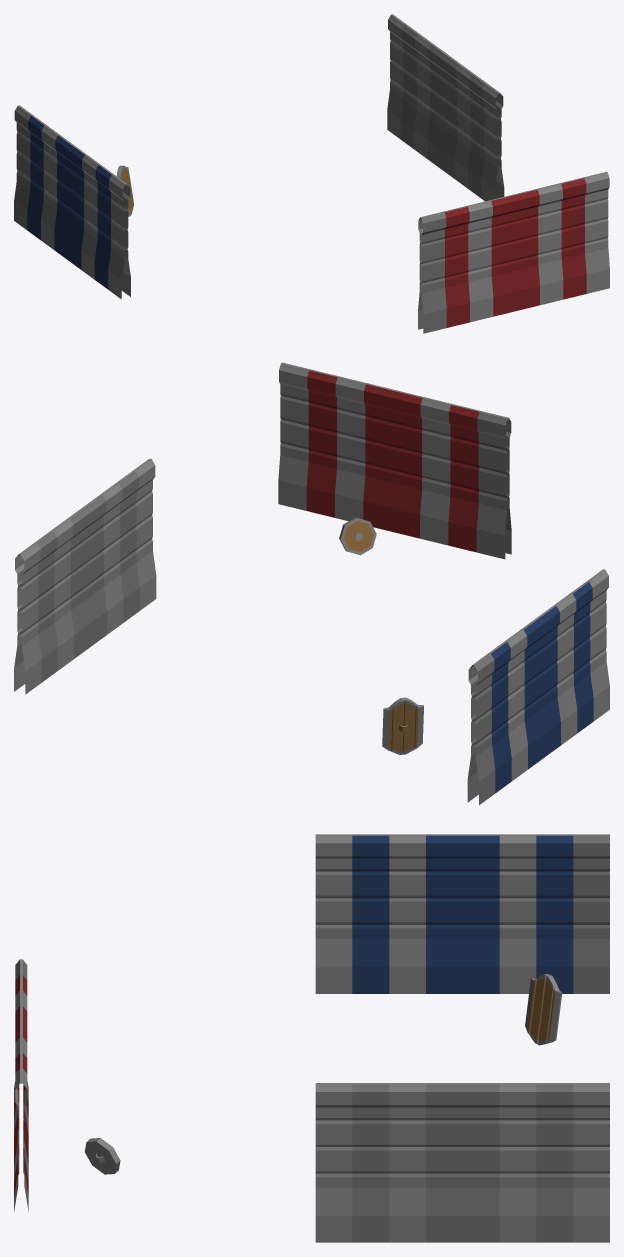
File: Modular Dungeon Assets.fbx
3 views of the same model, one above another, from view 1: azimuth 30°, elevation 25°; view 2: azimuth 150°, elevation 25°; view 3: azimuth 270°, elevation 25° (orthographic). The views are drawn at different scales.
Parts seen in each view (by area): view 1: Wall R 1, Wall B 1, Wall N 1; view 2: Wall R 1, Wall B 1, Wall N 1, Shield 1, Shield 2; view 3: Wall N 1, Wall B 1, Wall R 1, Shield 1, Shield 2.
Boxes of the visible parts, x1,y1,x2,y2 form: Wall R 1: (418,171,609,333); Wall B 1: (14,105,130,299); Wall N 1: (387,14,504,201); Wall R 1: (278,362,511,559); Wall B 1: (467,569,609,805); Wall N 1: (14,458,156,694); Shield 1: (382,697,423,754); Shield 2: (339,517,376,555); Wall N 1: (315,1083,609,1242); Wall B 1: (315,834,609,993); Wall R 1: (14,959,28,1211); Shield 1: (525,974,562,1045); Shield 2: (84,1138,120,1174).
Size of the model in its own units: 2050 by 585 by 2025.
